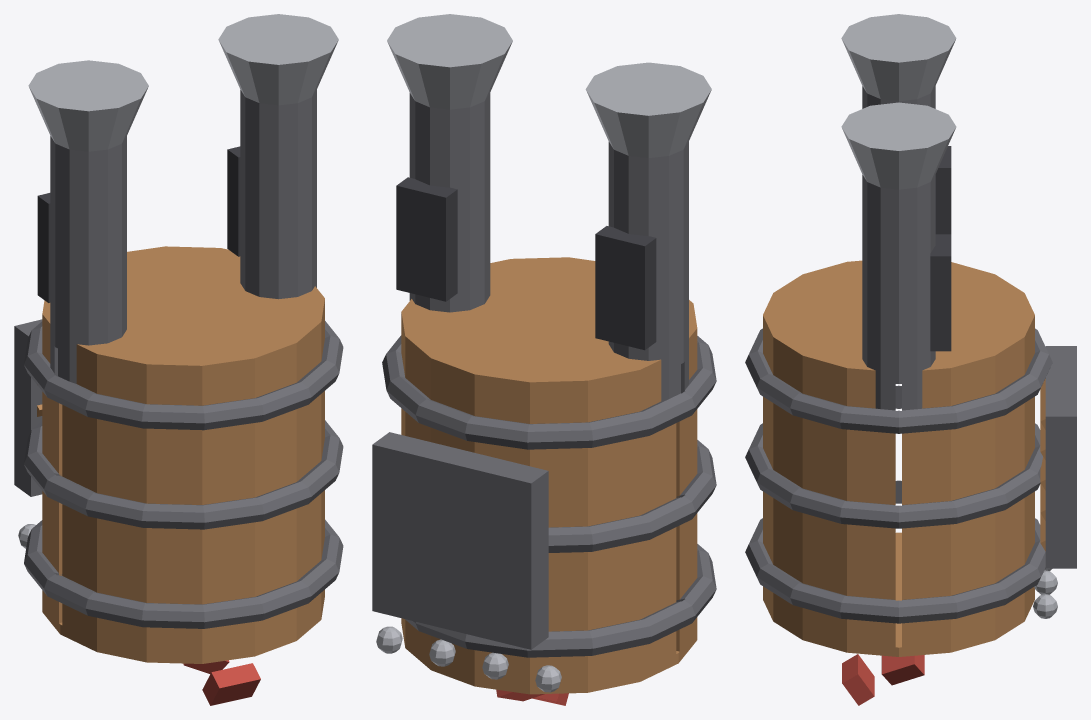
Rendered from backpack-bruiser2.glb.
3 views of the same model, side by side, from view 1: azimuth 30°, elevation 25°; view 2: azimuth 150°, elevation 25°; view 3: azimuth 270°, elevation 25° (orthographic). The views are drawn at different scales.
Parts seen in each view (by area): view 1: boiler, stack-0.1, stack0.1, band1, band0, band2, flare0.1, flare-0.1, ventwell, grb2, stackvent0.1, stackvent-0.1; view 2: boiler, ventwell, stack-0.1, stack0.1, band2, flare-0.1, flare0.1, stackvent0.1, stackvent-0.1, band0, band1, rivet.001 (+3 smaller); view 3: boiler, stack0.1, band2, band0, band1, flare0.1, flare-0.1, ventwell, stackvent0.1, stackvent-0.1, grb2, grb5 (+1 smaller).
Boxes of the visible parts, x1,y1,x2,y2 form: boiler: [42, 246, 324, 663]; stack-0.1: [50, 136, 126, 383]; stack0.1: [240, 90, 316, 299]; band1: [24, 420, 343, 529]; band0: [24, 519, 343, 628]; band2: [24, 321, 343, 430]; flare0.1: [218, 14, 338, 105]; flare-0.1: [28, 60, 148, 151]; ventwell: [14, 319, 42, 496]; grb2: [202, 663, 260, 705]; stackvent0.1: [227, 146, 240, 256]; stackvent-0.1: [37, 193, 50, 302]; boiler: [401, 257, 697, 694]; ventwell: [372, 432, 548, 649]; stack-0.1: [608, 141, 688, 401]; stack0.1: [409, 93, 490, 312]; band2: [382, 335, 716, 449]; flare-0.1: [585, 62, 711, 157]; flare0.1: [387, 14, 512, 109]; stackvent0.1: [396, 177, 457, 301]; stackvent-0.1: [595, 226, 656, 350]; band0: [405, 544, 716, 657]; band1: [548, 440, 716, 552]; rivet.001: [535, 665, 561, 692]; boiler: [763, 260, 1034, 656]; stack0.1: [862, 174, 935, 410]; band2: [745, 328, 1052, 433]; band0: [745, 480, 1045, 623]; band1: [745, 385, 1042, 528]; flare0.1: [841, 102, 956, 189]; flare-0.1: [841, 14, 956, 101]; ventwell: [1045, 346, 1076, 568]; stackvent0.1: [930, 234, 951, 351]; stackvent-0.1: [935, 146, 951, 234]; grb2: [842, 654, 874, 705]; grb5: [881, 655, 924, 685].
Bounding box in the file's own units: 0.31 × 0.6341 × 0.317.
